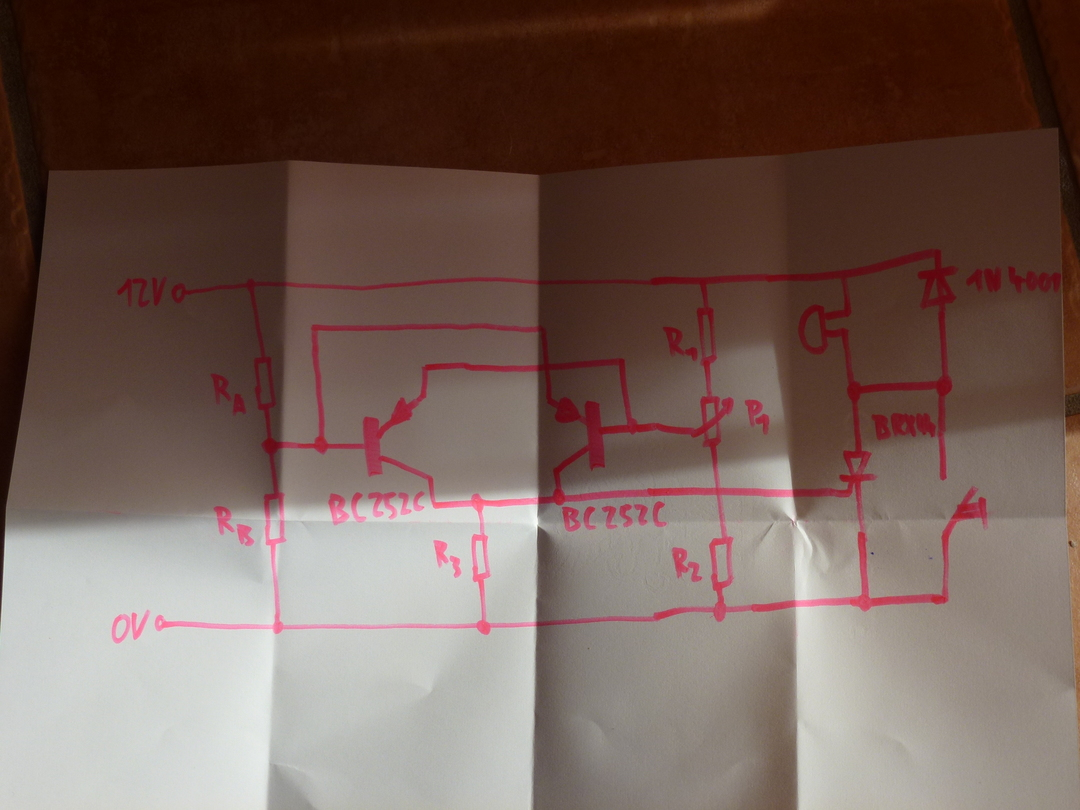crossover: (710, 482, 730, 500), (540, 359, 556, 375)
diode: (916, 265, 961, 311)
junction: (935, 373, 955, 397), (711, 600, 730, 623), (845, 380, 864, 402), (855, 591, 874, 613), (467, 492, 486, 513), (474, 618, 495, 637), (260, 437, 280, 455), (550, 487, 568, 506), (313, 435, 329, 456), (242, 276, 260, 294), (624, 417, 640, 437), (932, 246, 948, 263), (270, 618, 285, 636), (937, 590, 951, 607), (837, 268, 851, 284), (697, 274, 711, 290), (308, 321, 322, 335), (838, 326, 851, 341), (840, 305, 854, 318), (615, 355, 628, 369), (419, 360, 432, 374), (539, 323, 550, 336), (429, 502, 441, 512)
lamp: (796, 302, 832, 356)
resistor: (708, 534, 735, 594), (251, 355, 278, 412), (695, 305, 719, 368), (262, 491, 288, 547), (469, 531, 492, 584)
resistor.adjustable: (693, 395, 736, 448)
switch: (938, 475, 989, 540)
terminal: (169, 281, 193, 305), (153, 613, 172, 634)
text: (326, 490, 426, 527), (561, 501, 668, 533), (965, 264, 1062, 297), (869, 411, 937, 441), (212, 504, 256, 548), (209, 371, 248, 417), (116, 275, 167, 309), (661, 325, 699, 363), (110, 609, 151, 644), (670, 546, 704, 584), (432, 538, 463, 579), (743, 398, 771, 437)
thyristor: (837, 448, 879, 500)
transistor: (361, 392, 437, 483), (544, 395, 607, 475)
